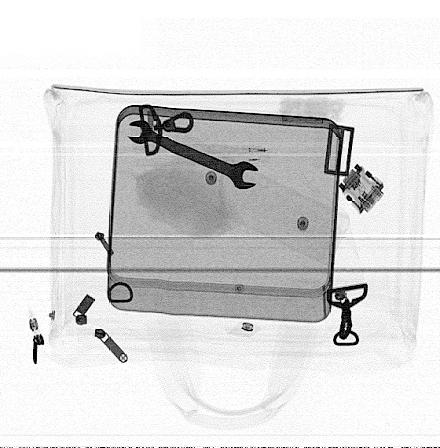Wrench: (127, 119, 261, 190)
